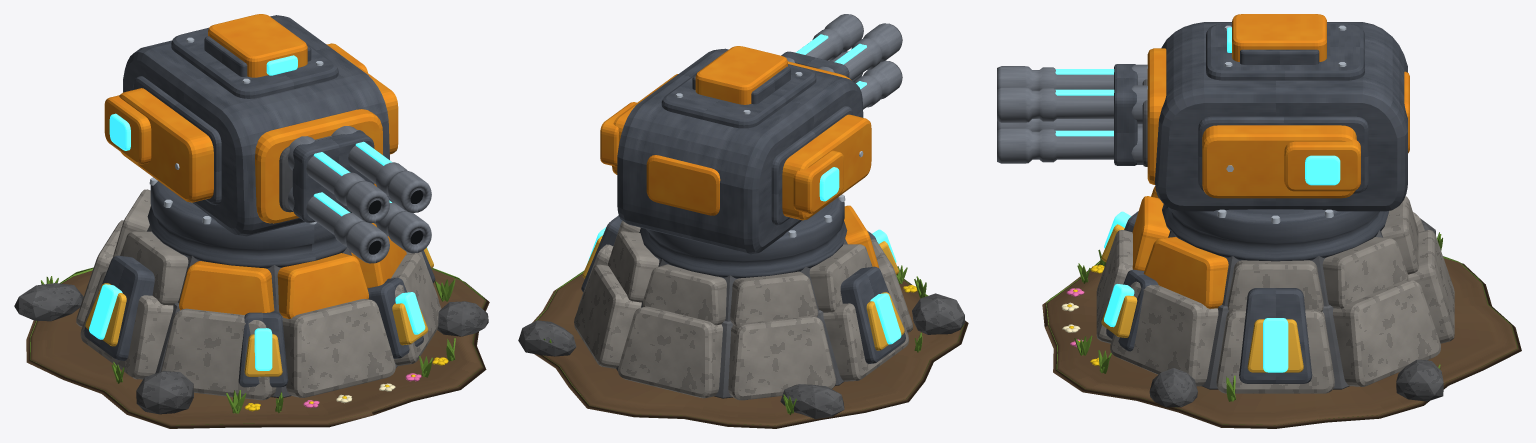
File: gun_turret_l3.glb
The picture shows the model from 3 angles, left to right: view 1: azimuth 30°, elevation 25°; view 2: azimuth 150°, elevation 25°; view 3: azimuth 270°, elevation 25°; orthographic projection. The views are drawn at different scales.
Parts seen in each view (by area): view 1: BaseStoneBlocks, TurretArmoredBody, BaseEarthRim, TurretOrangeArmor, BaseBearingSteel, BaseOrangeAccents, BarrelTubes, BaseBoulders, BarrelStabilizerClamp, BaseGoldTrim, BaseEnergyCaps, BaseGrassTurf (+5 smaller); view 2: BaseStoneBlocks, TurretArmoredBody, BaseEarthRim, TurretOrangeArmor, BaseBearingSteel, BaseBoulders, BarrelTubes, BaseMortarCore, BaseEnergyCaps, BaseGoldTrim, BaseGrassTurf, BaseOrangeAccents (+3 smaller); view 3: BaseStoneBlocks, TurretArmoredBody, BaseEarthRim, TurretOrangeArmor, BaseBearingSteel, BarrelTubes, BaseOrangeAccents, BaseBoulders, BaseMortarCore, BaseGoldTrim, BaseEnergyCaps, BarrelStabilizerClamp (+3 smaller).
Part boxes in pixels (bbox=[...]): BaseStoneBlocks: bbox=[76, 189, 441, 400]; TurretArmoredBody: bbox=[123, 15, 389, 236]; BaseEarthRim: bbox=[26, 269, 489, 428]; TurretOrangeArmor: bbox=[104, 14, 398, 223]; BaseBearingSteel: bbox=[84, 181, 435, 387]; BaseOrangeAccents: bbox=[179, 223, 406, 318]; BarrelTubes: bbox=[288, 126, 431, 263]; BaseBoulders: bbox=[14, 283, 488, 414]; BarrelStabilizerClamp: bbox=[292, 131, 374, 222]; BaseGoldTrim: bbox=[85, 247, 433, 376]; BaseEnergyCaps: bbox=[89, 247, 428, 370]; BaseGrassTurf: bbox=[30, 267, 485, 425]; BaseStoneBlocks: bbox=[574, 220, 912, 400]; TurretArmoredBody: bbox=[617, 48, 863, 254]; BaseEarthRim: bbox=[532, 273, 968, 428]; TurretOrangeArmor: bbox=[600, 46, 871, 220]; BaseBearingSteel: bbox=[581, 198, 905, 363]; BaseBoulders: bbox=[518, 293, 965, 418]; BarrelTubes: bbox=[786, 14, 902, 109]; BaseMortarCore: bbox=[616, 232, 847, 398]; BaseEnergyCaps: bbox=[587, 227, 901, 344]; BaseGoldTrim: bbox=[582, 235, 904, 350]; BaseGrassTurf: bbox=[536, 265, 963, 425]; BaseOrangeAccents: bbox=[844, 205, 879, 268]; BaseStoneBlocks: bbox=[1096, 196, 1454, 393]; TurretArmoredBody: bbox=[1155, 22, 1407, 211]; BaseEarthRim: bbox=[1042, 258, 1521, 428]; TurretOrangeArmor: bbox=[1147, 14, 1409, 198]; BaseBearingSteel: bbox=[1106, 204, 1388, 383]; BarrelTubes: bbox=[997, 64, 1147, 164]; BaseOrangeAccents: bbox=[1132, 186, 1228, 308]; BaseBoulders: bbox=[1149, 218, 1443, 407]; BaseMortarCore: bbox=[1168, 230, 1382, 389]; BaseGoldTrim: bbox=[1101, 224, 1303, 372]; BaseEnergyCaps: bbox=[1104, 211, 1288, 372]; BarrelStabilizerClamp: bbox=[1114, 64, 1137, 165].
Bounding box in the file's own units: 2.46 × 1.7 × 2.68.
15 materials, 8 textured.
